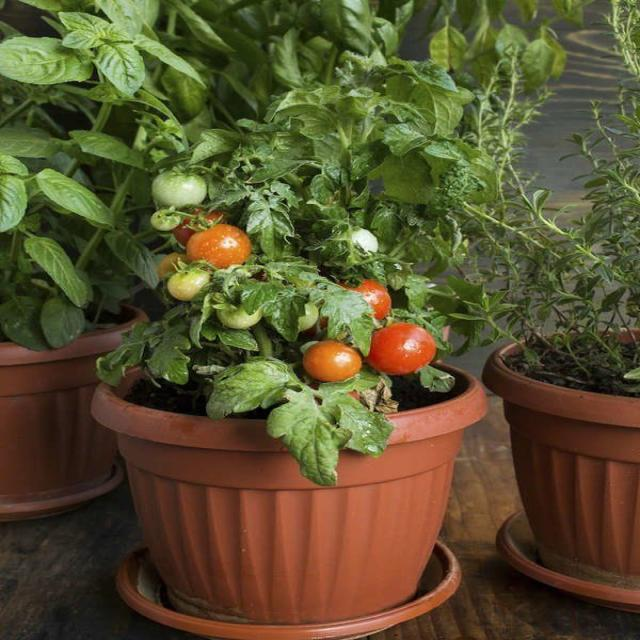level 2: (152, 170, 206, 210), (329, 226, 381, 264), (267, 296, 318, 332), (167, 270, 218, 302), (217, 293, 260, 329), (152, 208, 182, 230)
level 4: (156, 250, 203, 284)
level 5: (185, 224, 250, 268), (303, 340, 363, 381)
level 6: (365, 322, 437, 376), (329, 278, 393, 330), (172, 209, 226, 249)
